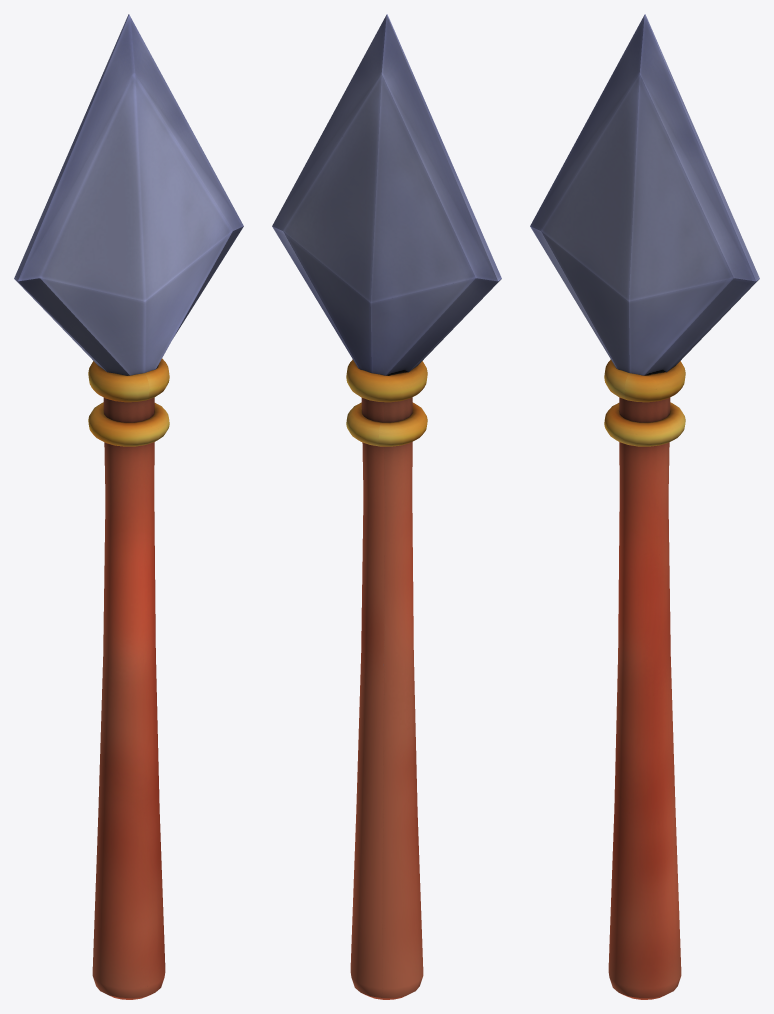
File: Arrow.fbx
3 views of the same model, side by side, from view 1: azimuth 30°, elevation 25°; view 2: azimuth 150°, elevation 25°; view 3: azimuth 330°, elevation 25° (orthographic).
Visible parts, largest first — view 1: Arrow; view 2: Arrow; view 3: Arrow.
Boxes of the visible parts, <box> form: Arrow: <box>14,14,243,999</box>; Arrow: <box>272,14,501,999</box>; Arrow: <box>530,14,759,999</box>.
Size of the model in its own units: 0.0427 by 0.1762 by 0.0134.
